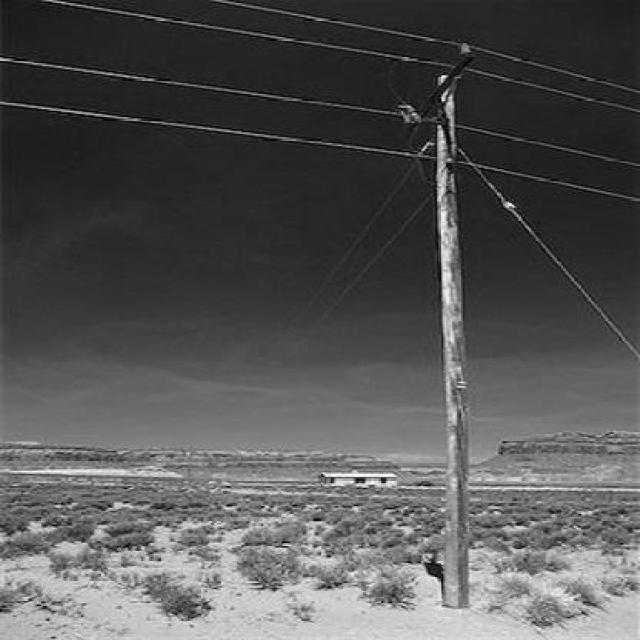Pole: (436, 84, 469, 607)
